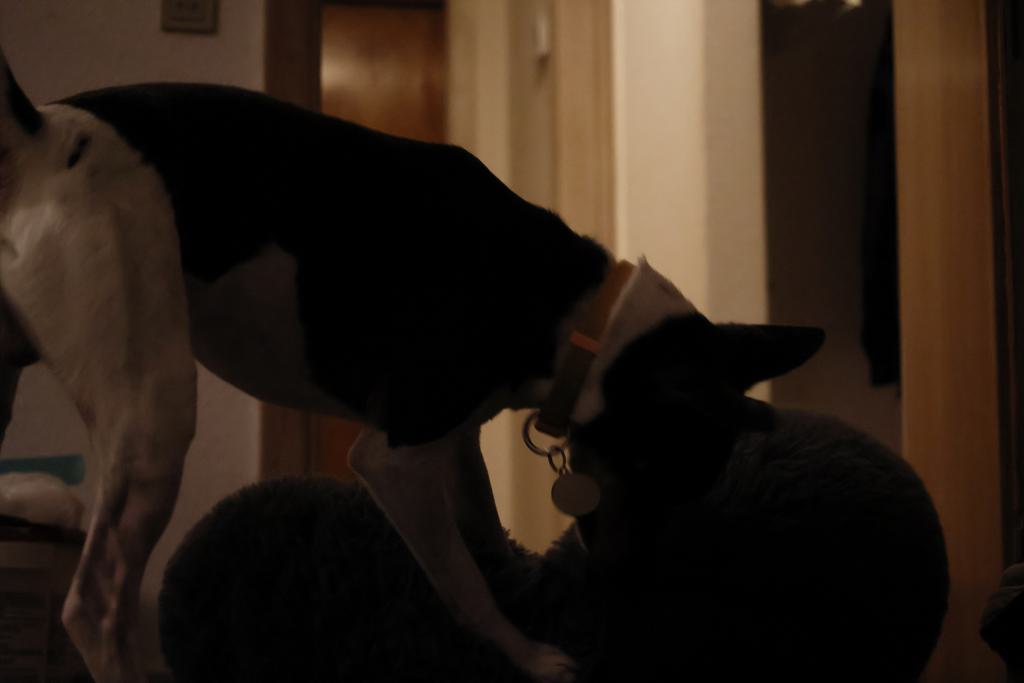Dog: (0, 29, 845, 683)
